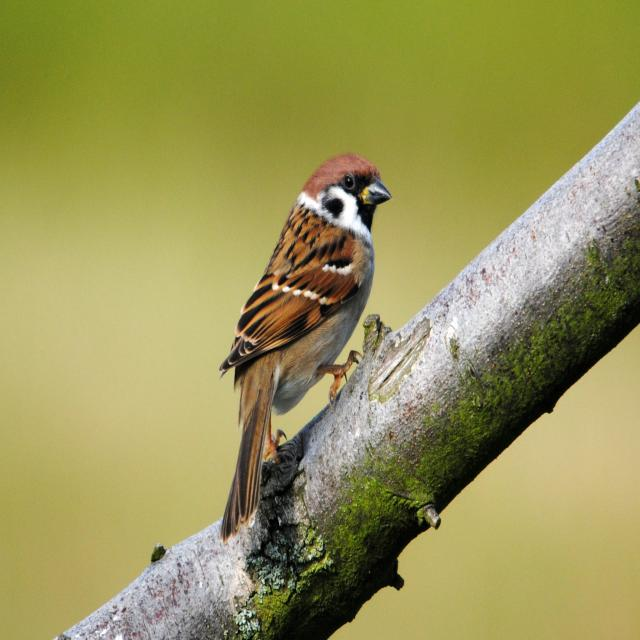Sparrow: (219, 151, 389, 538)
